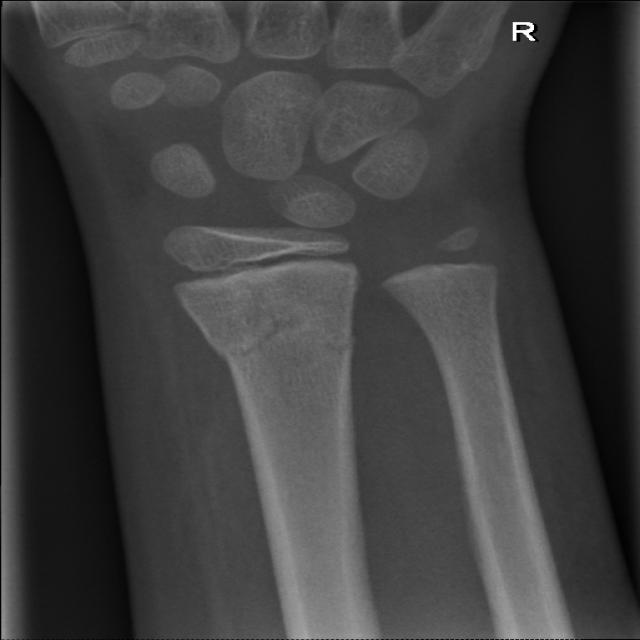radius fracture: (203, 293, 380, 428)
